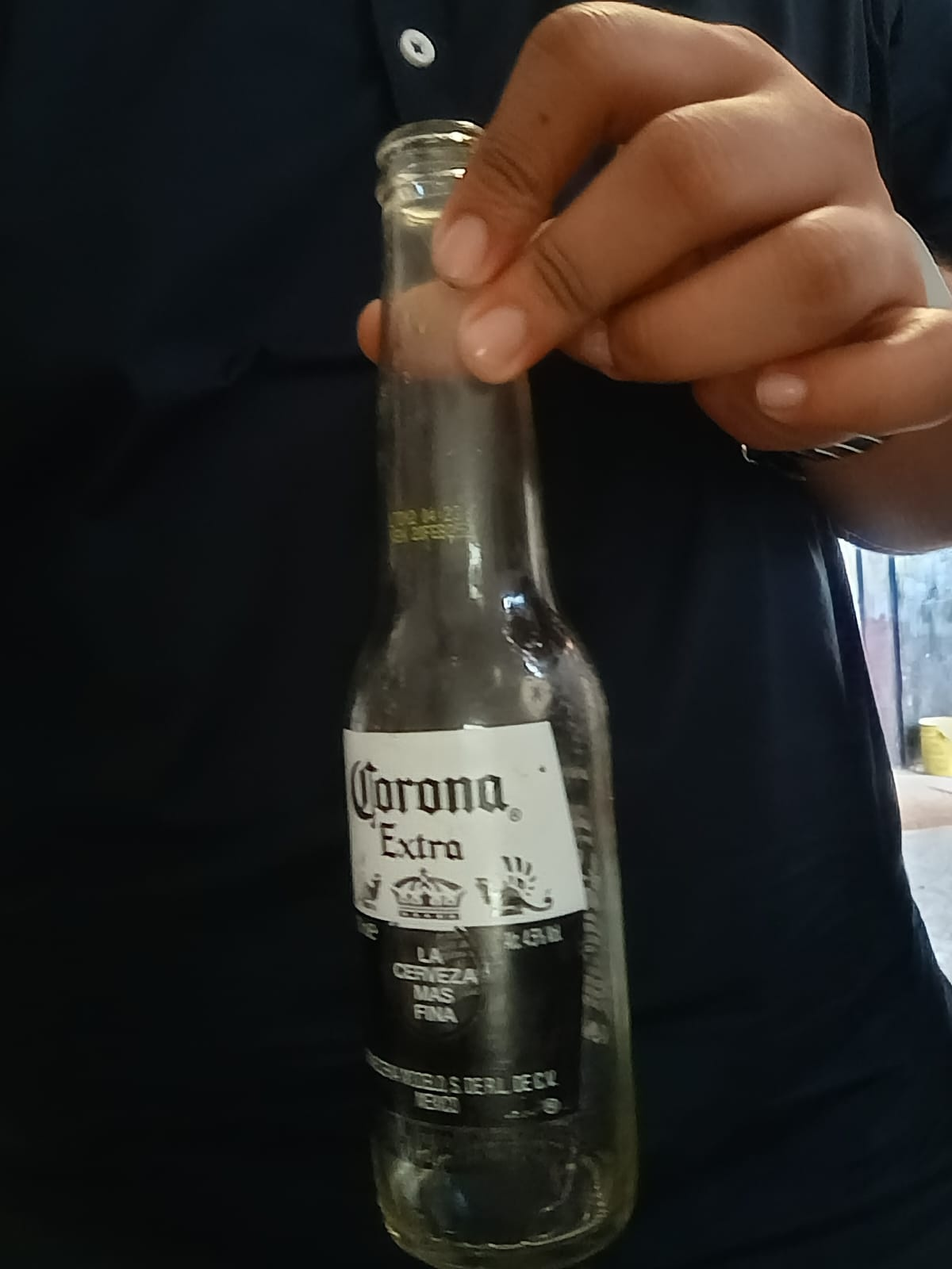Vidrio: (343, 122, 634, 1269)
